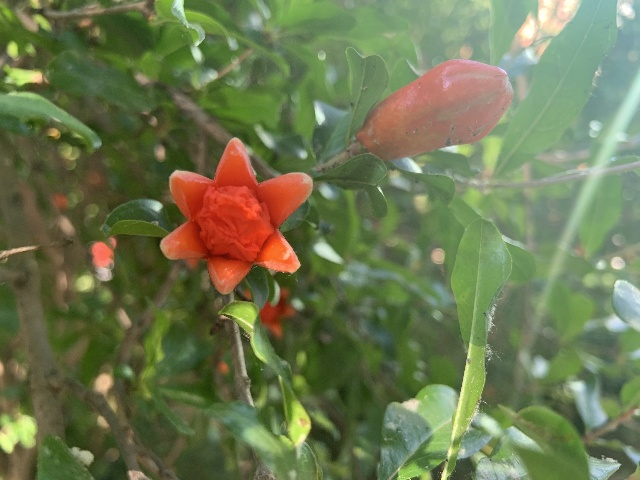bud: (356, 58, 513, 159)
flower: (159, 137, 313, 295), (260, 289, 296, 339)
